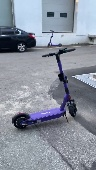beam: (9, 47, 82, 131), (46, 29, 64, 48)
